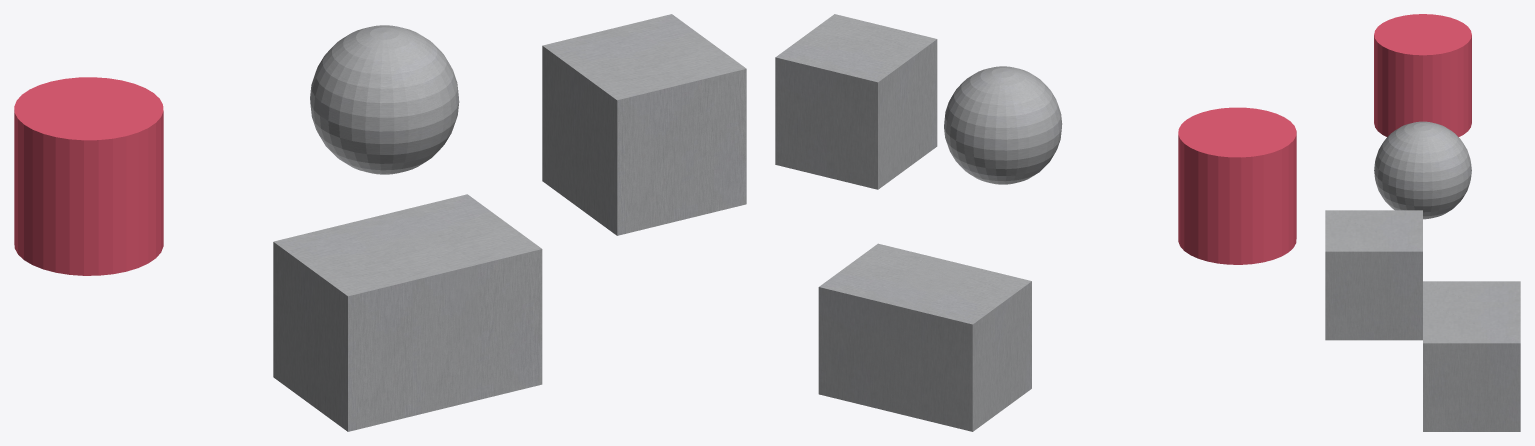
The picture shows the model from 3 angles, left to right: view 1: azimuth 30°, elevation 25°; view 2: azimuth 150°, elevation 25°; view 3: azimuth 270°, elevation 25°; orthographic projection. The views are drawn at different scales.
Visible parts, largest first — view 1: Cube.001, Cube, Cylinder; view 2: Cube.001, Cube, Cylinder; view 3: Cube.001, Cube, Cylinder.
Boxes of the visible parts, x1,y1,x2,y2 form: Cube.001: (310, 14, 746, 235); Cube: (273, 194, 542, 431); Cylinder: (14, 77, 163, 275); Cube.001: (775, 14, 1062, 189); Cube: (818, 243, 1031, 431); Cylinder: (1178, 107, 1296, 264); Cube.001: (1325, 121, 1471, 340); Cube: (1423, 281, 1520, 431); Cylinder: (1374, 14, 1471, 136).
Bounding box in the file's own units: 10 × 5.77 × 4.
Materials: 2 (1 with a texture image).
